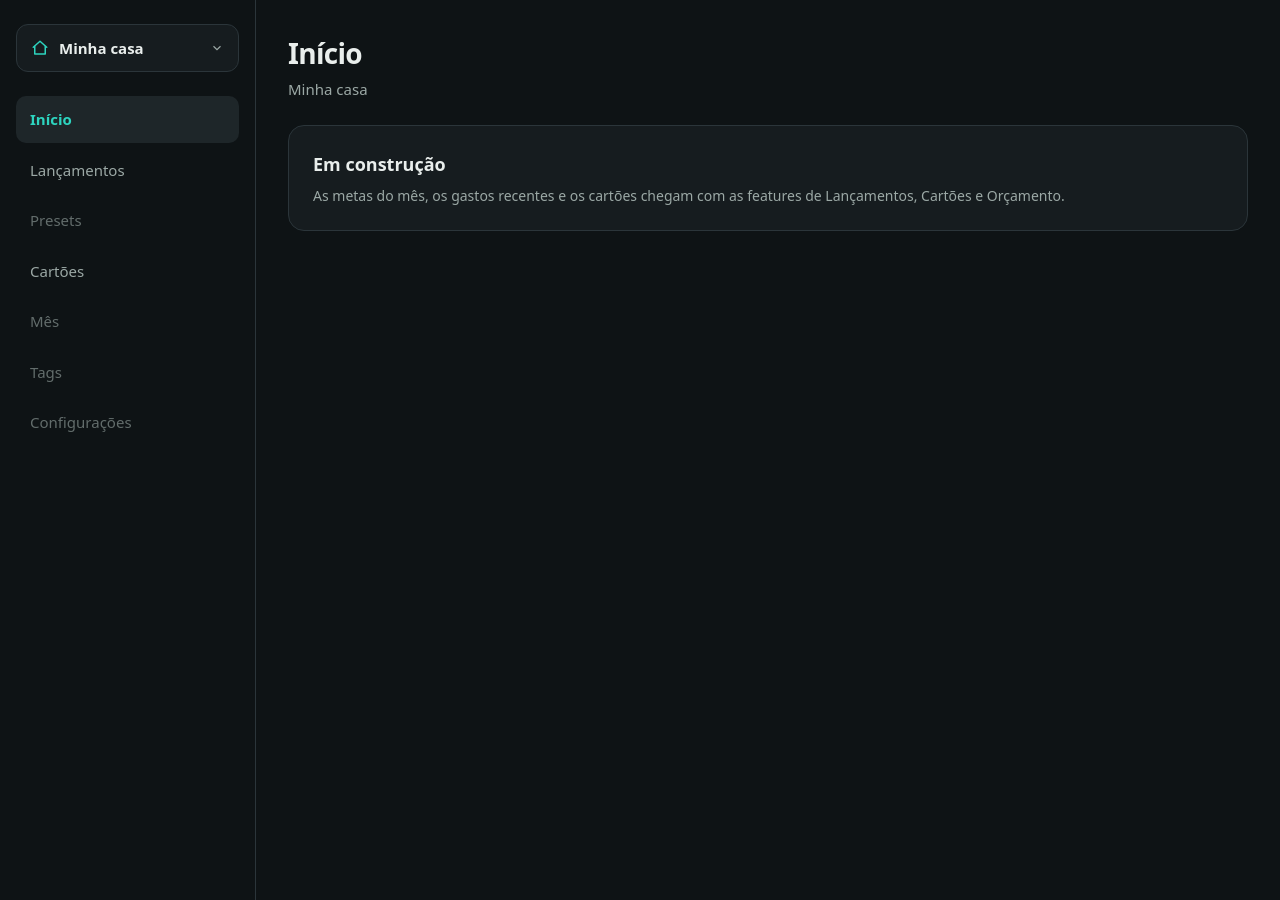
Test case: espaços vindos da API › escolher a Empresa no seletor leva a /empresa e mostra o nome da API
The width and height of the screenshot is (1280, 900).
Click the button with aria-label "Trocar de espaço": {"x": 128, "y": 48} [16,24,239,72]
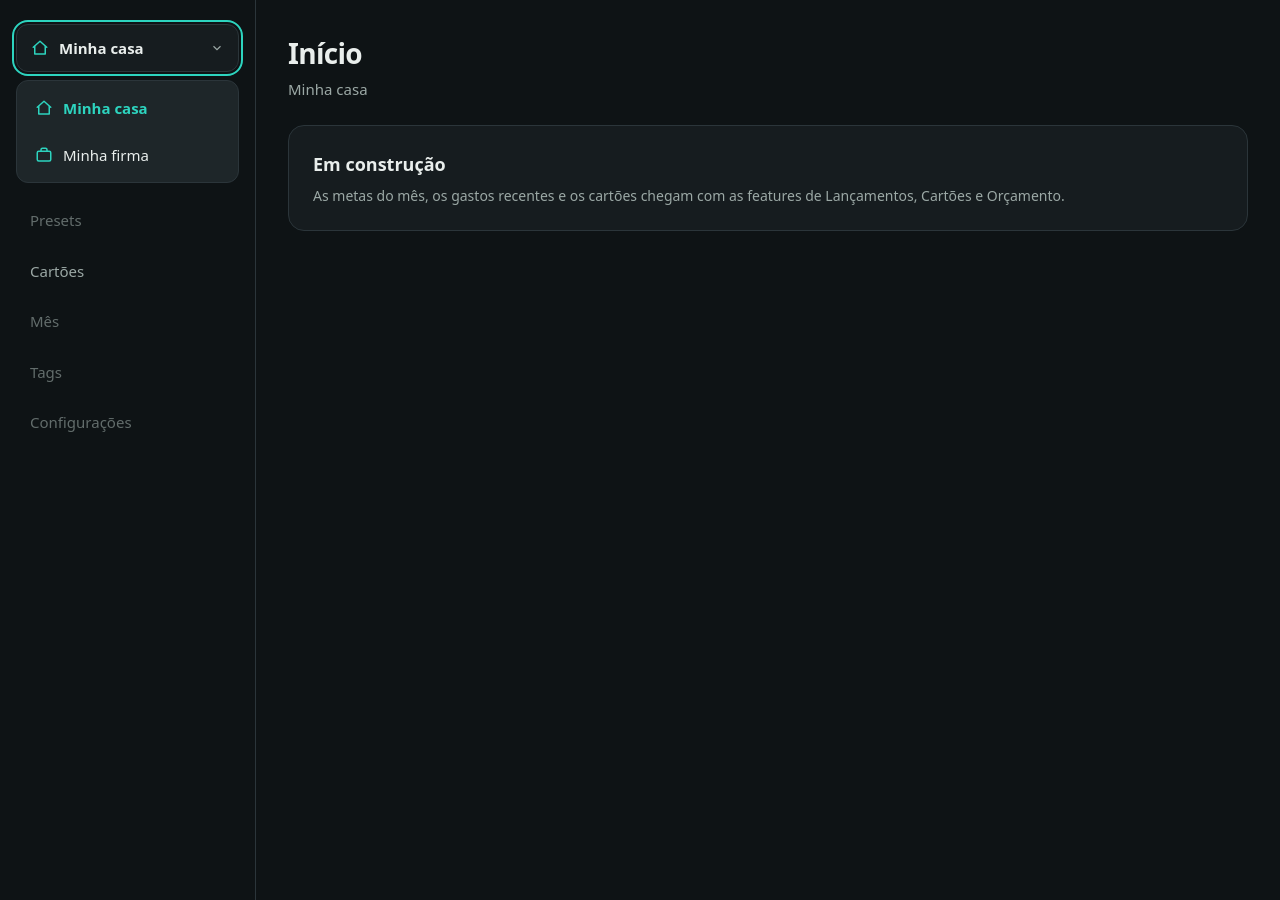
Click the link "Minha firma": {"x": 92, "y": 154} [35,144,149,164]
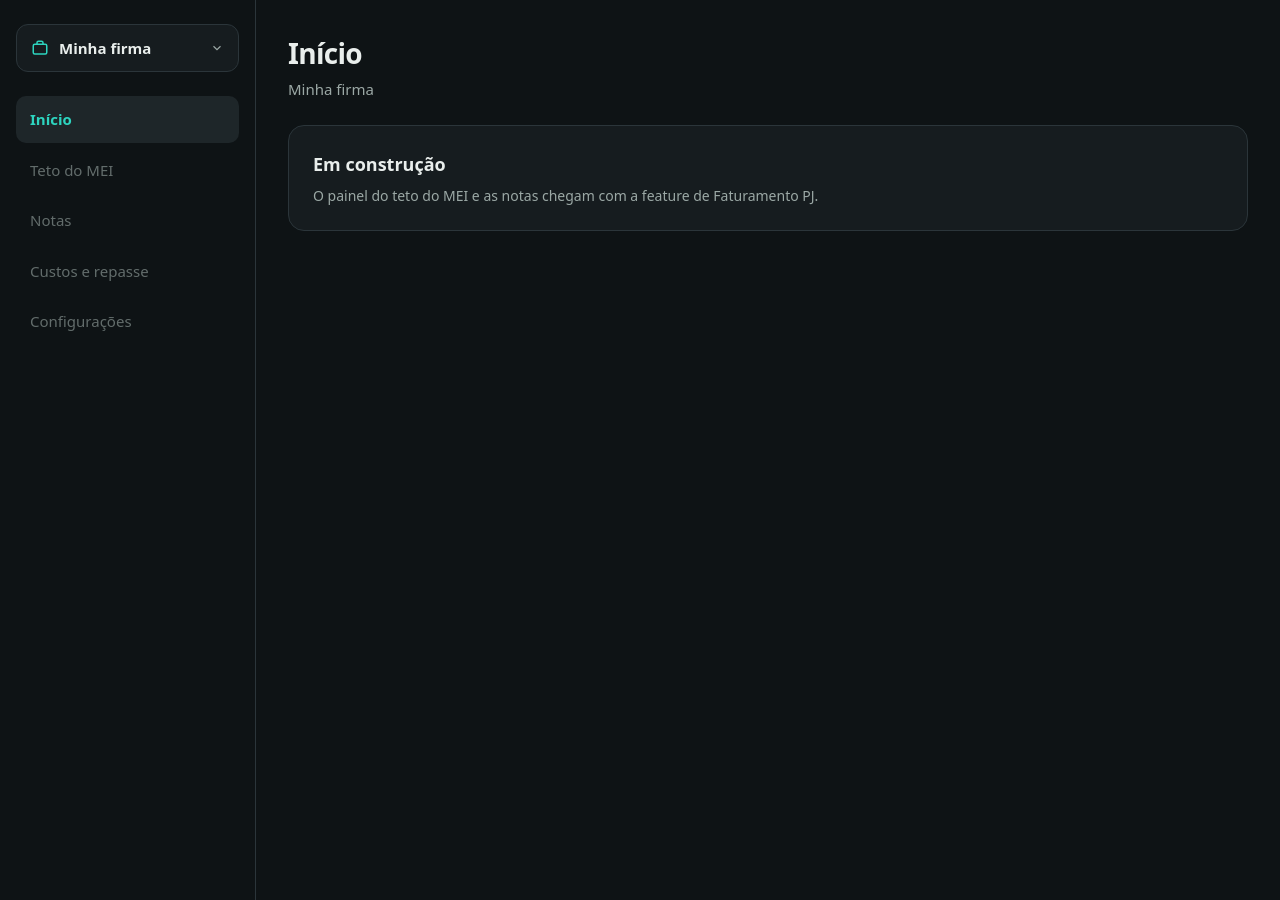
Result: the button with aria-label "Trocar de espaço, Minha firma" is shown at [16,24,239,72]
Result: the element that starts with "Início" shows "Minha firma" at [288,79,374,99]
